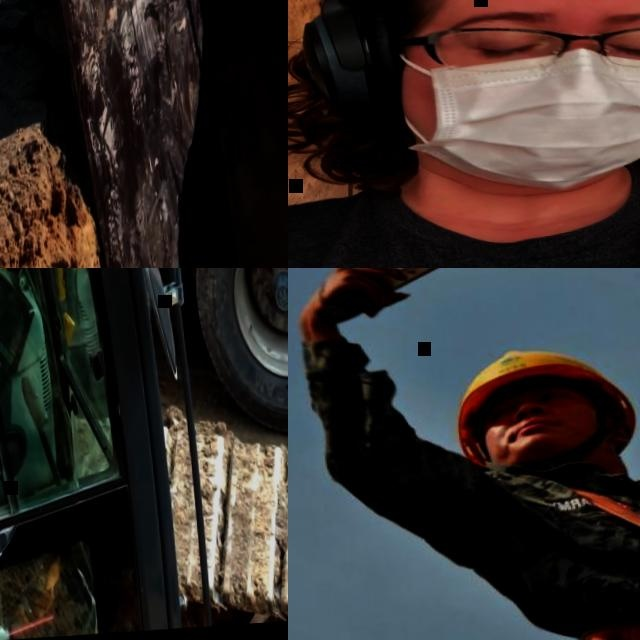Mask: (395, 37, 640, 193)
NO-Mask: (488, 402, 623, 454)
NO-Safety Vest: (288, 154, 640, 268), (530, 456, 640, 640)
Person: (297, 268, 640, 640), (288, 0, 640, 268), (447, 340, 637, 465)
machinery: (0, 268, 214, 640), (0, 268, 288, 465)
